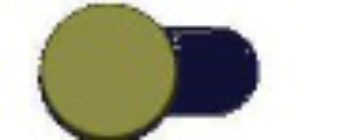Switch: (1, 1, 350, 139)
